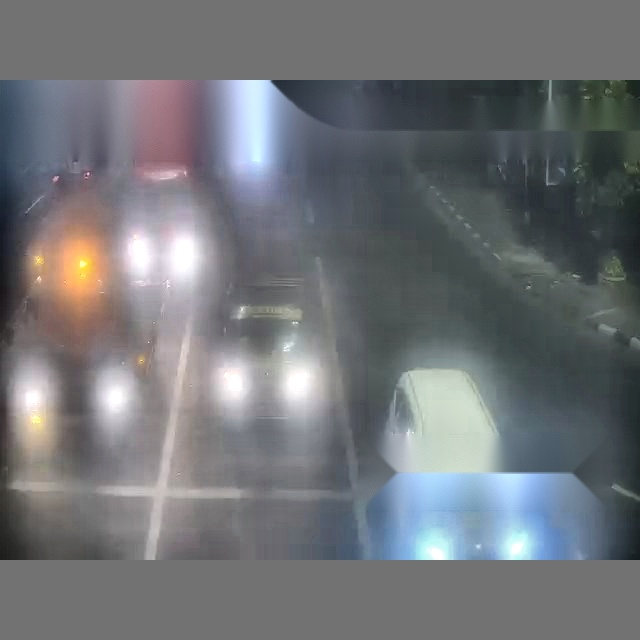Bis: (359, 369, 622, 557)
Motor: (126, 228, 153, 284)
